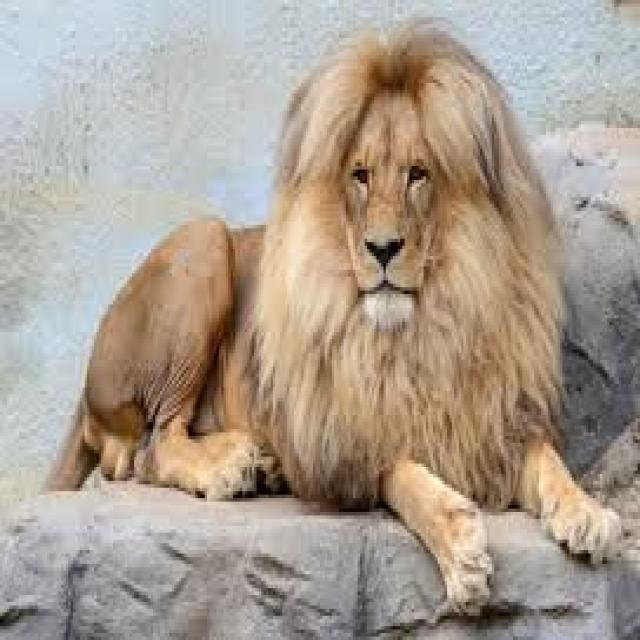Lion: (40, 20, 623, 626)
